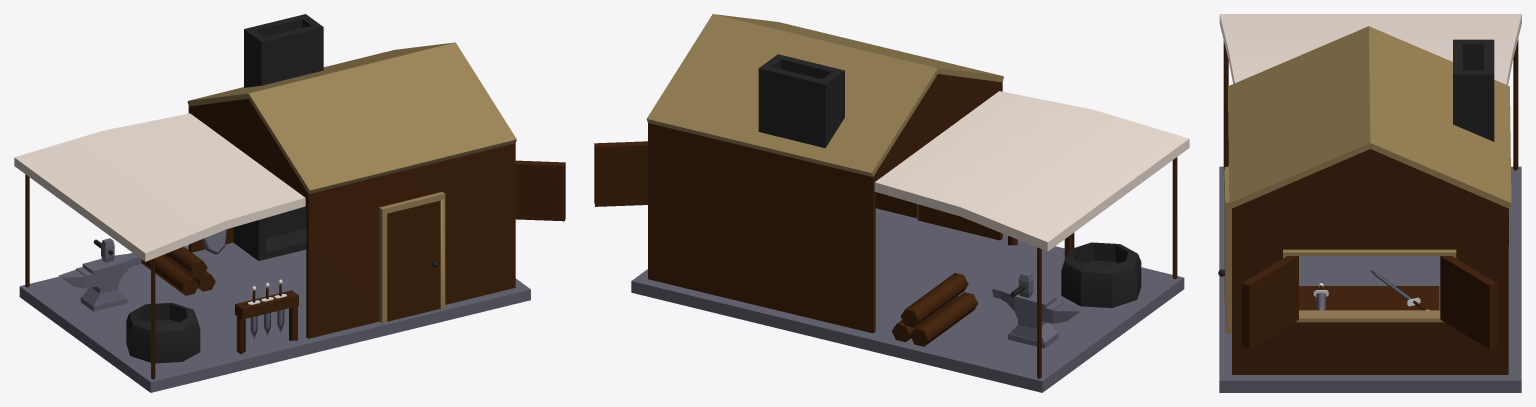
Rendered from Low Poly Blacksmith Workshop.fbx.
3 renders of one model, left to right at view 1: azimuth 30°, elevation 25°; view 2: azimuth 150°, elevation 25°; view 3: azimuth 270°, elevation 25°, orthographic. The views are drawn at different scales.
Visible parts, largest first — view 1: Building, Chimney, Door, Forge, Anvil, Weapon Rack, Wood; view 2: Building, Chimney, Forge, Wood, Anvil, Door; view 3: Building, Chimney, Table, Great Sword.
Boxes of the visible parts, left/top/right/bottom form: Building: left=14, top=42, right=565, bottom=392; Chimney: left=233, top=14, right=323, bottom=260; Door: left=387, top=200, right=440, bottom=321; Forge: left=126, top=302, right=200, bottom=363; Anvil: left=58, top=252, right=141, bottom=311; Weapon Rack: left=235, top=279, right=298, bottom=354; Wood: left=141, top=246, right=215, bottom=295; Building: left=594, top=14, right=1189, bottom=392; Chimney: left=758, top=54, right=844, bottom=148; Forge: left=1061, top=242, right=1141, bottom=307; Wood: left=892, top=273, right=978, bottom=346; Anvil: left=992, top=284, right=1082, bottom=348; Door: left=875, top=192, right=917, bottom=218; Building: left=1219, top=14, right=1521, bottom=392; Chimney: left=1453, top=39, right=1494, bottom=141; Table: left=1299, top=286, right=1439, bottom=310; Great Sword: left=1369, top=269, right=1429, bottom=310.
Bounding box in the file's own units: 876 × 434 × 461.
8 materials, 8 textured.
